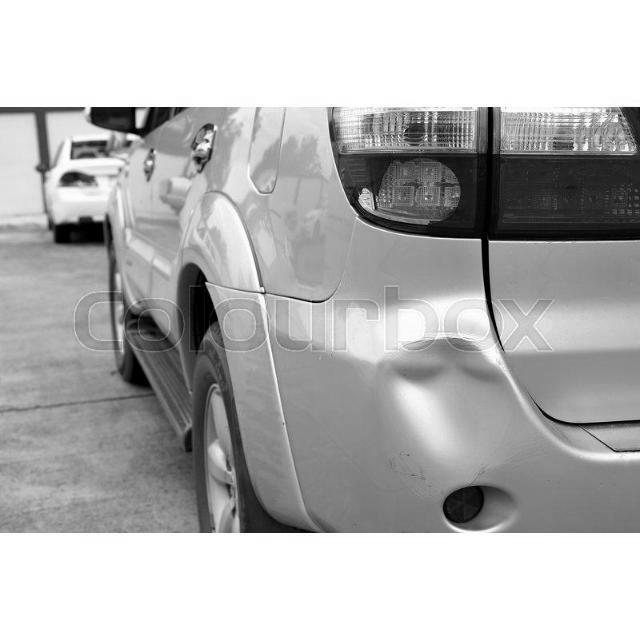rear-bumper-dent: (219, 293, 639, 533)
